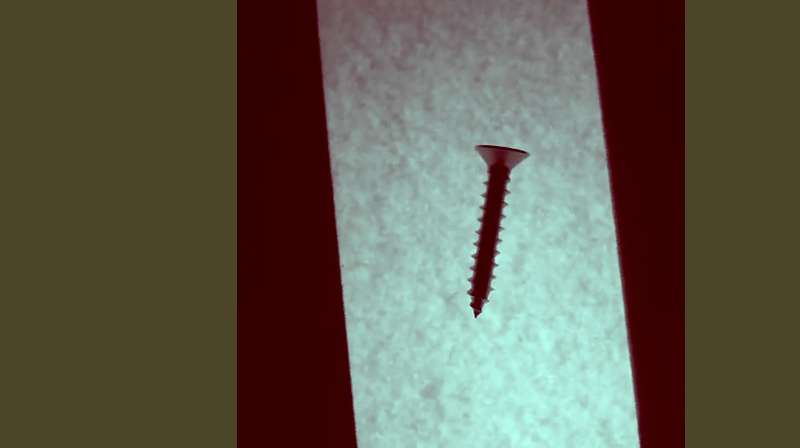S001: (463, 139, 531, 321)
